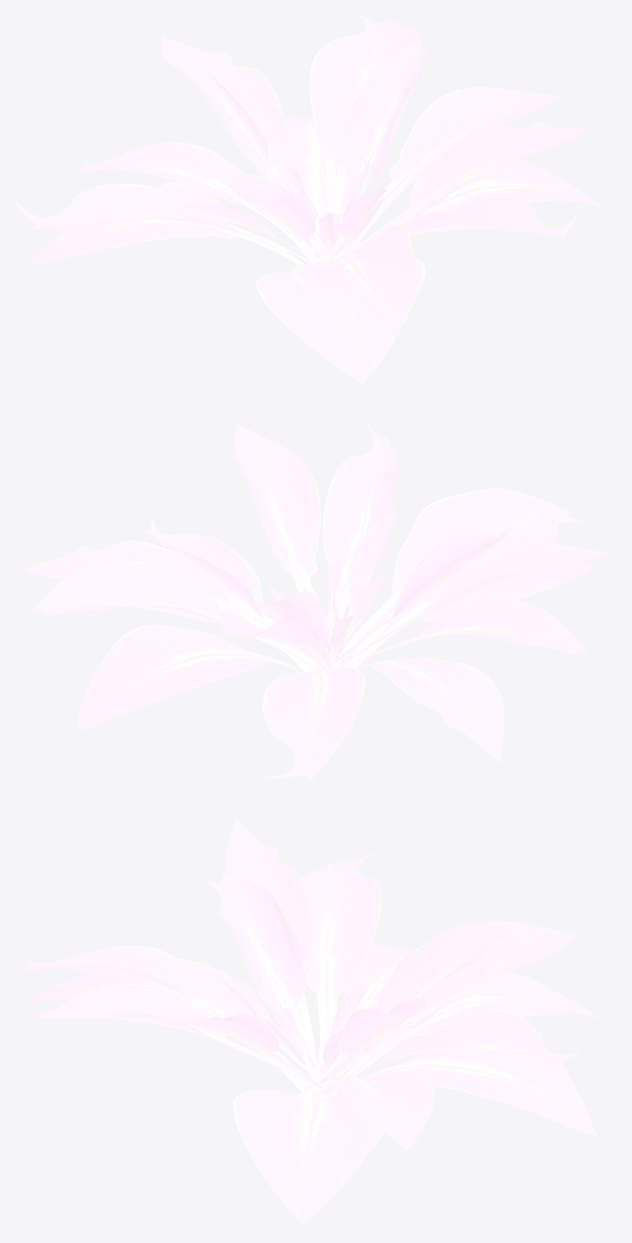
The picture shows the model from 3 angles, top to bottom: view 1: azimuth 30°, elevation 25°; view 2: azimuth 150°, elevation 25°; view 3: azimuth 270°, elevation 25°; orthographic projection. The views are drawn at different scales.
Parts seen in each view (by area): view 1: SM_GF_Sm_Plant_04_LOD0; view 2: SM_GF_Sm_Plant_04_LOD0; view 3: SM_GF_Sm_Plant_04_LOD0.
Part boxes in pixels (x1,y1,x2,y2): SM_GF_Sm_Plant_04_LOD0: (15, 14, 613, 384); SM_GF_Sm_Plant_04_LOD0: (20, 419, 611, 780); SM_GF_Sm_Plant_04_LOD0: (15, 819, 610, 1224).
Bounding box in the file's own units: 2.2 × 0.6659 × 2.07.
1 material, 1 textured.
